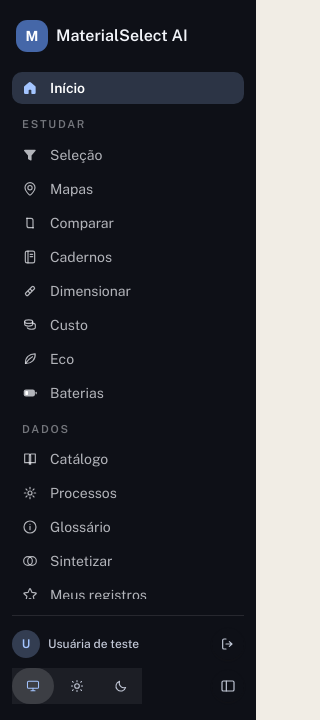
Scenario: AppSidebar › collapsing the rail › flips the control's own name and state
Step 1. Click the button named "Recolher a barra lateral" → (228, 686), box 212,670 -> 244,702
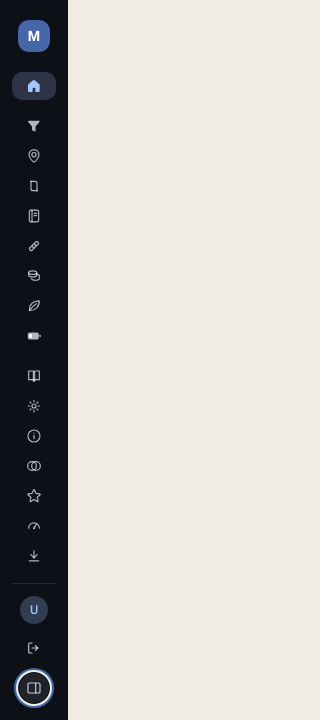
Check: the button named "Expandir a barra lateral" is collapsed
Step 2. Click the button named "Expandir a barra lateral" → (34, 688), box 18,672 -> 50,704
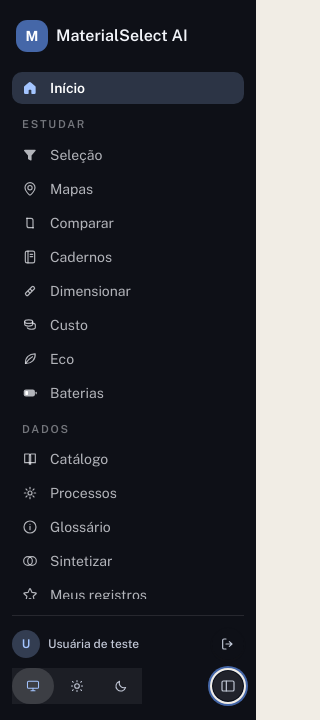
Check: the button named "Recolher a barra lateral" is shown, box 212,670 -> 244,702
